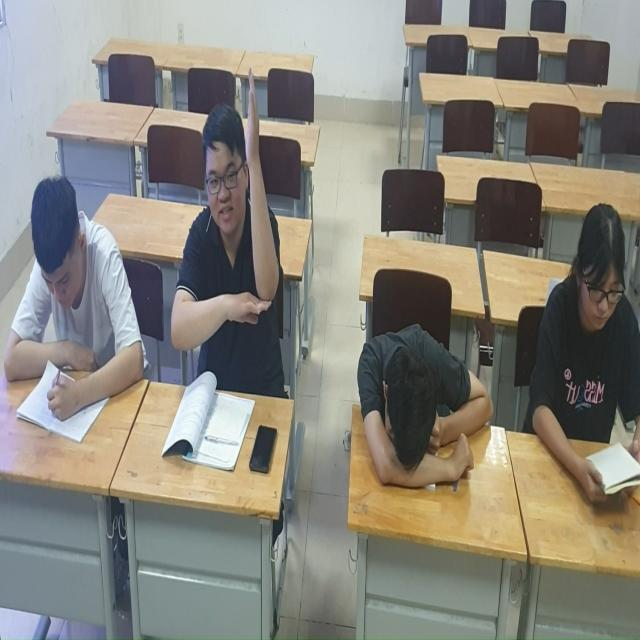raise_hand: (170, 70, 287, 399)
read: (7, 172, 146, 438), (531, 204, 640, 503)
sleep: (357, 319, 493, 491)
